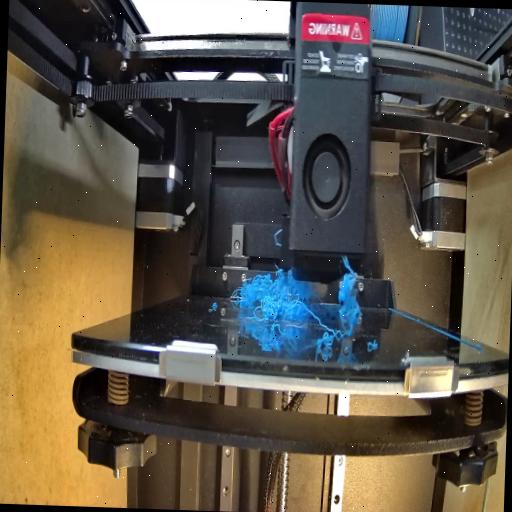spaghetti: (234, 272, 298, 318), (334, 274, 362, 337), (318, 320, 338, 346)
